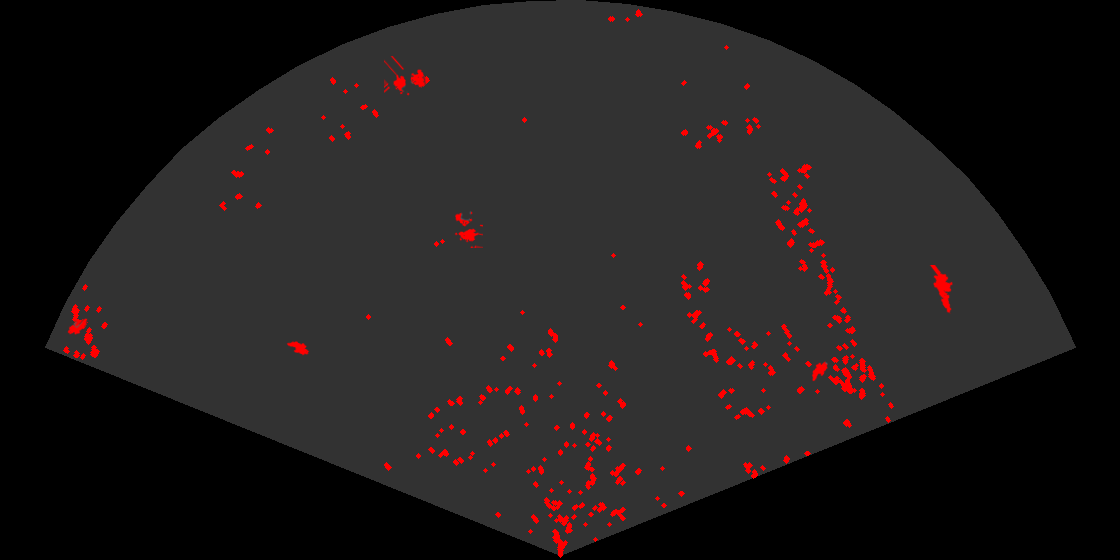AUV: (285, 340, 311, 357), (810, 360, 829, 383), (66, 317, 89, 336)
cage: (384, 56, 427, 97), (453, 210, 483, 248)
frogman: (928, 265, 954, 314)
